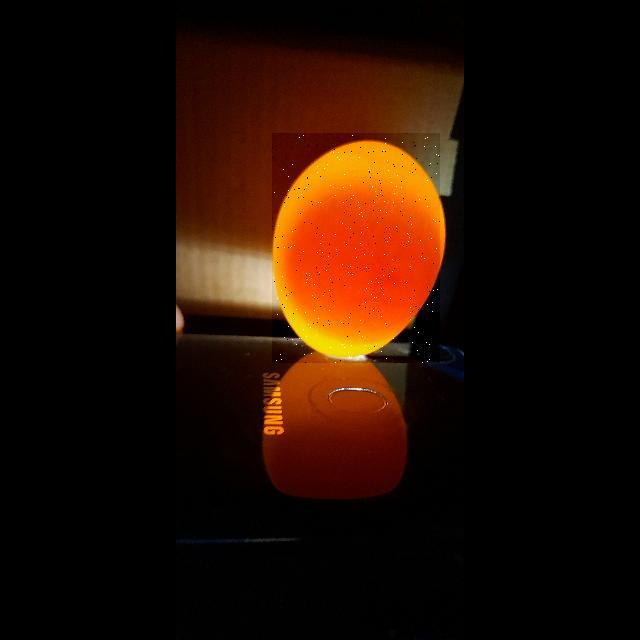Fertile: (272, 133, 440, 363)
